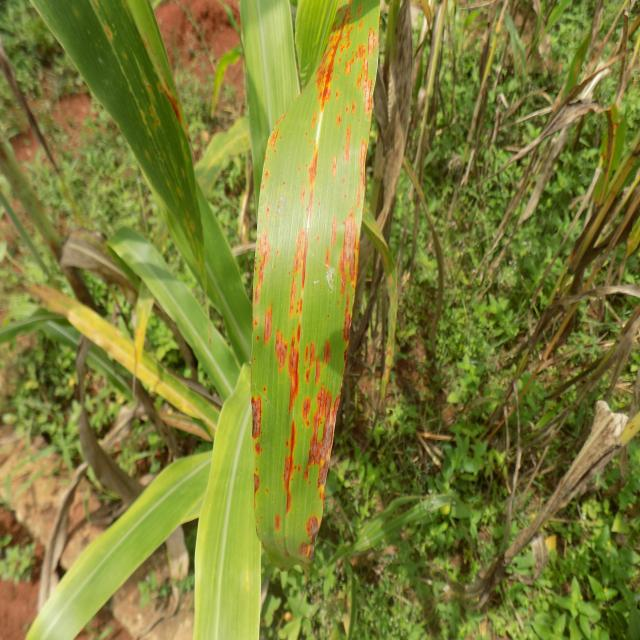millet_healthy: (26, 452, 212, 640), (109, 227, 240, 400), (193, 363, 261, 640)
millet_rust: (250, 0, 380, 570), (35, 0, 209, 300)
